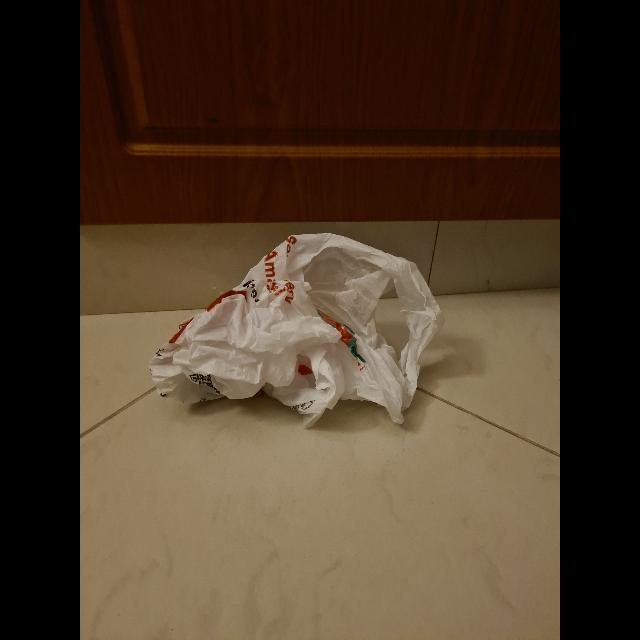plastic_bag: (150, 238, 446, 432)
